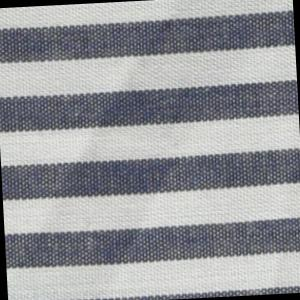Wrinkle: (13, 8, 221, 300)
